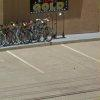Bicycle: (0, 19, 57, 46)
